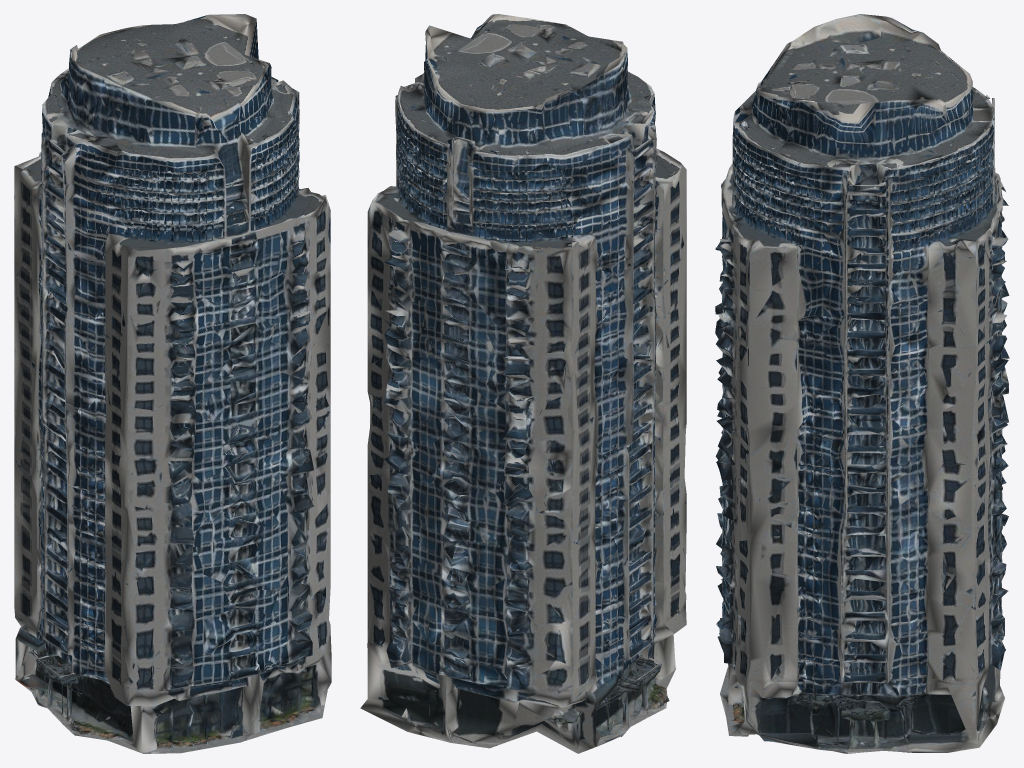
The model's file is bld_curve.glb.
The picture shows the model from 3 angles, left to right: view 1: azimuth 30°, elevation 25°; view 2: azimuth 150°, elevation 25°; view 3: azimuth 270°, elevation 25°; orthographic projection.
Visible parts, largest first — view 1: bld_curve; view 2: bld_curve; view 3: bld_curve.
Boxes of the visible parts, box(x1,y1,x2,y2) form: bld_curve: box(14, 14, 331, 753); bld_curve: box(360, 14, 686, 753); bld_curve: box(715, 14, 1009, 753).
Bounding box in the file's own units: 0.7493 × 1.9 × 0.7908.
Materials: 1 (1 with a texture image).
